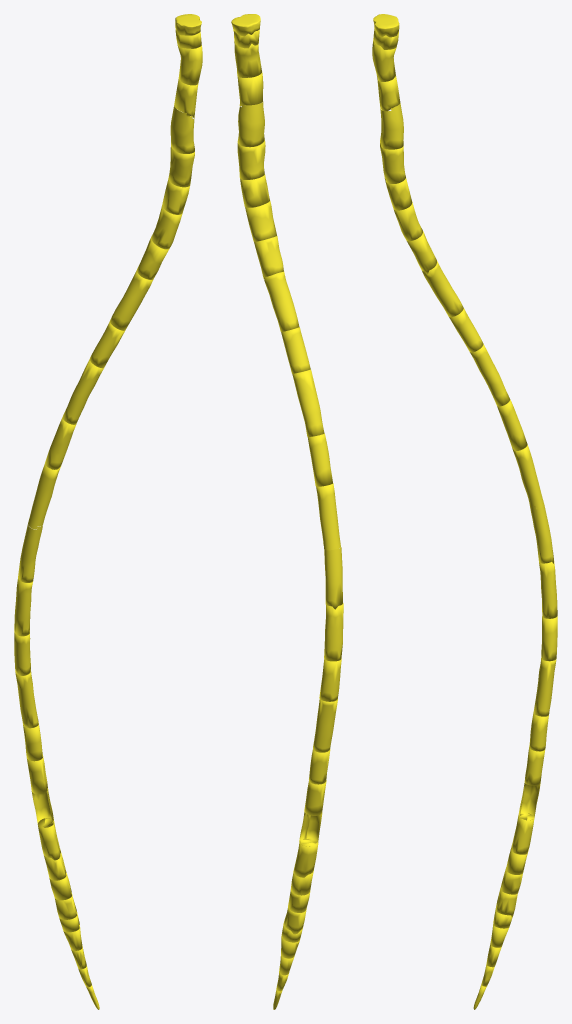
The model's file is vh_m_spinal_cord-40.glb.
3 renders of one model, left to right at view 1: azimuth 90°, elevation 25°; view 2: azimuth 210°, elevation 25°; view 3: azimuth 270°, elevation 25°, orthographic. The views are drawn at different scales.
Visible parts, largest first — view 1: VH_M_second_thoracic_spinal_cord_segment, VH_M_fourth_thoracic_spinal_cord_segment, VH_M_sixth_thoracic_spinal_cord_segment, VH_M_C5_segment_of_cervical_spinal_cord, VH_M_seventh_thoracic_spinal_cord_segment, VH_M_eighth_thoracic_spinal_cord_segment, VH_M_tenth_thoracic_spinal_cord_segment, VH_M_fifth_thoracic_spinal_cord_segment, VH_M_C3_segment_of_cervical_spinal_cord, VH_M_C8_segment_of_cervical_spinal_cord, VH_M_C6_segment_of_cervical_spinal_cord, VH_M_third_thoracic_spinal_cord_segment (+9 smaller); view 2: VH_M_fourth_thoracic_spinal_cord_segment, VH_M_second_thoracic_spinal_cord_segment, VH_M_sixth_thoracic_spinal_cord_segment, VH_M_C5_segment_of_cervical_spinal_cord, VH_M_seventh_thoracic_spinal_cord_segment, VH_M_eighth_thoracic_spinal_cord_segment, VH_M_fifth_thoracic_spinal_cord_segment, VH_M_tenth_thoracic_spinal_cord_segment, VH_M_C8_segment_of_cervical_spinal_cord, VH_M_C6_segment_of_cervical_spinal_cord, VH_M_third_thoracic_spinal_cord_segment, VH_M_first_thoracic_spinal_cord_segment (+13 smaller); view 3: VH_M_second_thoracic_spinal_cord_segment, VH_M_fourth_thoracic_spinal_cord_segment, VH_M_sixth_thoracic_spinal_cord_segment, VH_M_C5_segment_of_cervical_spinal_cord, VH_M_tenth_thoracic_spinal_cord_segment, VH_M_seventh_thoracic_spinal_cord_segment, VH_M_eighth_thoracic_spinal_cord_segment, VH_M_fifth_thoracic_spinal_cord_segment, VH_M_C6_segment_of_cervical_spinal_cord, VH_M_third_thoracic_spinal_cord_segment, VH_M_C3_segment_of_cervical_spinal_cord, VH_M_ninth_thoracic_spinal_cord_segment (+9 smaller).
Boxes of the visible parts, x1=… form: VH_M_second_thoracic_spinal_cord_segment: x1=110, y1=270, x2=153, y2=330; VH_M_fourth_thoracic_spinal_cord_segment: x1=62, y1=359, x2=103, y2=424; VH_M_sixth_thoracic_spinal_cord_segment: x1=28, y1=464, x2=60, y2=529; VH_M_C5_segment_of_cervical_spinal_cord: x1=170, y1=105, x2=194, y2=153; VH_M_seventh_thoracic_spinal_cord_segment: x1=18, y1=524, x2=42, y2=582; VH_M_eighth_thoracic_spinal_cord_segment: x1=14, y1=578, x2=33, y2=636; VH_M_tenth_thoracic_spinal_cord_segment: x1=15, y1=669, x2=38, y2=728; VH_M_fifth_thoracic_spinal_cord_segment: x1=45, y1=417, x2=76, y2=469; VH_M_C3_segment_of_cervical_spinal_cord: x1=177, y1=45, x2=202, y2=85; VH_M_C8_segment_of_cervical_spinal_cord: x1=151, y1=205, x2=182, y2=249; VH_M_C6_segment_of_cervical_spinal_cord: x1=168, y1=146, x2=194, y2=187; VH_M_third_thoracic_spinal_cord_segment: x1=89, y1=321, x2=124, y2=368; VH_M_fourth_thoracic_spinal_cord_segment: x1=292, y1=369, x2=324, y2=436; VH_M_second_thoracic_spinal_cord_segment: x1=264, y1=271, x2=299, y2=331; VH_M_sixth_thoracic_spinal_cord_segment: x1=316, y1=483, x2=340, y2=550; VH_M_C5_segment_of_cervical_spinal_cord: x1=237, y1=101, x2=264, y2=147; VH_M_seventh_thoracic_spinal_cord_segment: x1=324, y1=547, x2=342, y2=609; VH_M_eighth_thoracic_spinal_cord_segment: x1=324, y1=603, x2=343, y2=661; VH_M_fifth_thoracic_spinal_cord_segment: x1=307, y1=433, x2=332, y2=486; VH_M_tenth_thoracic_spinal_cord_segment: x1=313, y1=699, x2=337, y2=752; VH_M_C8_segment_of_cervical_spinal_cord: x1=245, y1=200, x2=276, y2=241; VH_M_C6_segment_of_cervical_spinal_cord: x1=237, y1=140, x2=265, y2=179; VH_M_third_thoracic_spinal_cord_segment: x1=281, y1=327, x2=310, y2=373; VH_M_first_thoracic_spinal_cord_segment: x1=254, y1=236, x2=283, y2=278; VH_M_second_thoracic_spinal_cord_segment: x1=422, y1=261, x2=463, y2=317; VH_M_fourth_thoracic_spinal_cord_segment: x1=470, y1=344, x2=510, y2=406; VH_M_sixth_thoracic_spinal_cord_segment: x1=512, y1=445, x2=543, y2=509; VH_M_C5_segment_of_cervical_spinal_cord: x1=380, y1=103, x2=403, y2=149; VH_M_tenth_thoracic_spinal_cord_segment: x1=533, y1=658, x2=556, y2=716; VH_M_seventh_thoracic_spinal_cord_segment: x1=529, y1=502, x2=553, y2=563; VH_M_eighth_thoracic_spinal_cord_segment: x1=539, y1=561, x2=557, y2=618; VH_M_fifth_thoracic_spinal_cord_segment: x1=497, y1=399, x2=527, y2=450; VH_M_C6_segment_of_cervical_spinal_cord: x1=380, y1=143, x2=405, y2=183; VH_M_third_thoracic_spinal_cord_segment: x1=449, y1=308, x2=483, y2=352; VH_M_C3_segment_of_cervical_spinal_cord: x1=372, y1=41, x2=396, y2=81; VH_M_ninth_thoracic_spinal_cord_segment: x1=541, y1=616, x2=557, y2=661.
Bounding box in the file's own units: 0.0207 × 0.4652 × 0.0796.
